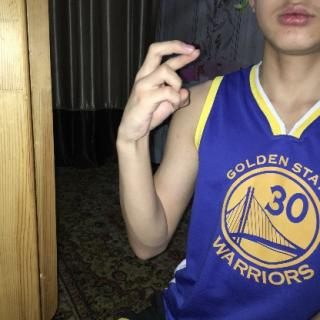ZAY: (111, 36, 202, 149)
